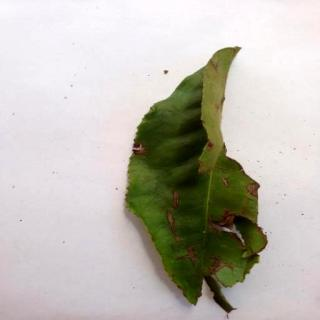Algal Leaf: (126, 46, 269, 316)
